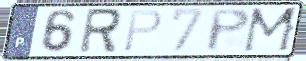6: (39, 8, 78, 55)
7: (169, 6, 207, 55)
M: (240, 6, 301, 55)
P: (205, 7, 253, 54), (121, 8, 164, 54)
R: (76, 7, 123, 55)
